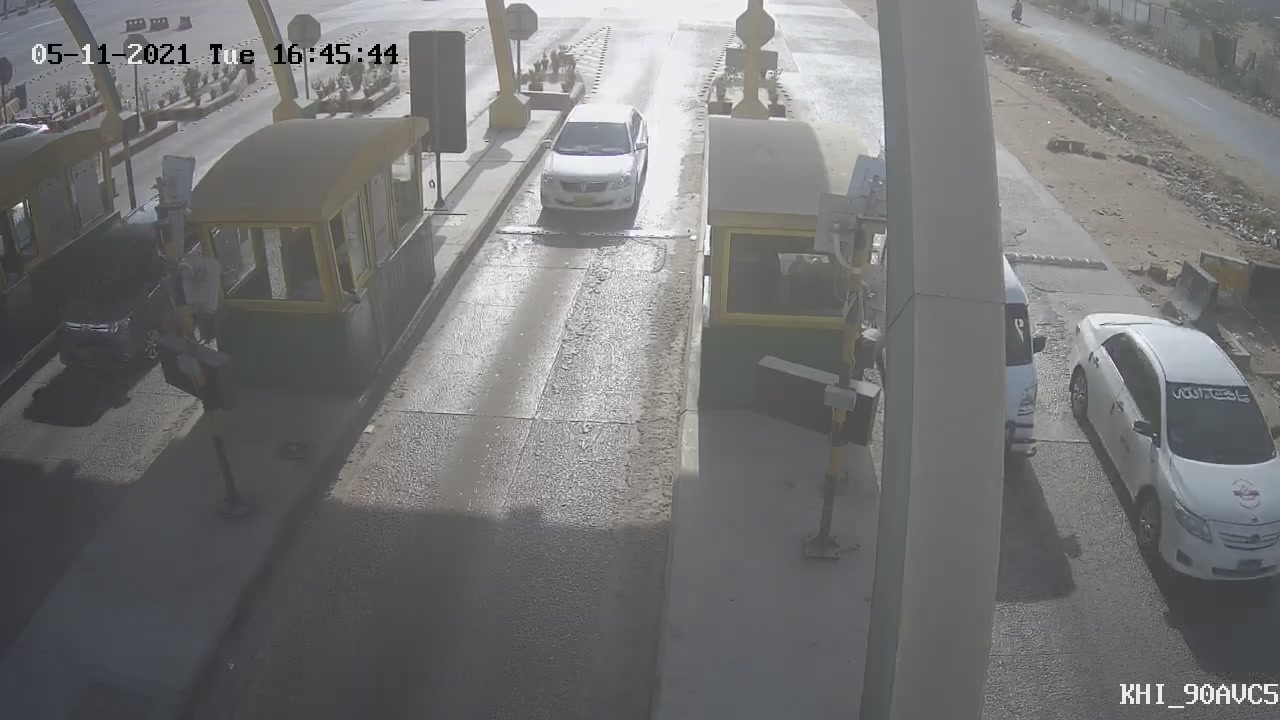F1: (518, 88, 663, 235)
